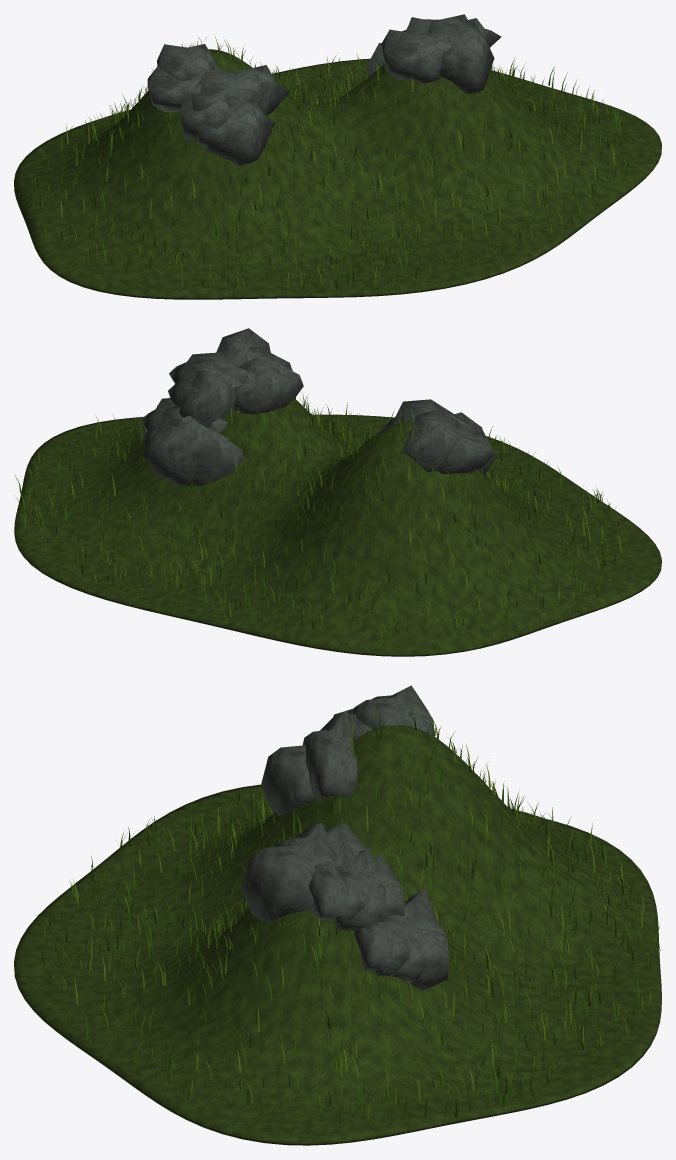
File: 07_small_hill_v3_twinpeak.glb
3 views of the same model, one above another, from view 1: azimuth 30°, elevation 25°; view 2: azimuth 150°, elevation 25°; view 3: azimuth 270°, elevation 25° (orthographic). The views are drawn at different scales.
Visible parts, largest first — view 1: Hill variant | distinct closed terrain heightfield.001, 07_small_hill_v3_twinpeak | Hill | weathered slate, Hill variant | slope grasses.001; view 2: Hill variant | distinct closed terrain heightfield.001, 07_small_hill_v3_twinpeak | Hill | weathered slate, Hill variant | slope grasses.001; view 3: Hill variant | distinct closed terrain heightfield.001, 07_small_hill_v3_twinpeak | Hill | weathered slate, Hill variant | slope grasses.001.
Part boxes in pixels (x1,y1,x2,y2): Hill variant | distinct closed terrain heightfield.001: (14, 49, 661, 299); 07_small_hill_v3_twinpeak | Hill | weathered slate: (147, 14, 501, 165); Hill variant | slope grasses.001: (29, 36, 631, 293); Hill variant | distinct closed terrain heightfield.001: (14, 398, 661, 656); 07_small_hill_v3_twinpeak | Hill | weathered slate: (140, 328, 496, 485); Hill variant | slope grasses.001: (15, 366, 628, 637); Hill variant | distinct closed terrain heightfield.001: (14, 724, 661, 1145); 07_small_hill_v3_twinpeak | Hill | weathered slate: (241, 685, 449, 990); Hill variant | slope grasses.001: (36, 702, 660, 1126).
Size of the model in its own units: 8.96 by 2.28 by 6.82.
4 materials, 4 textured.
